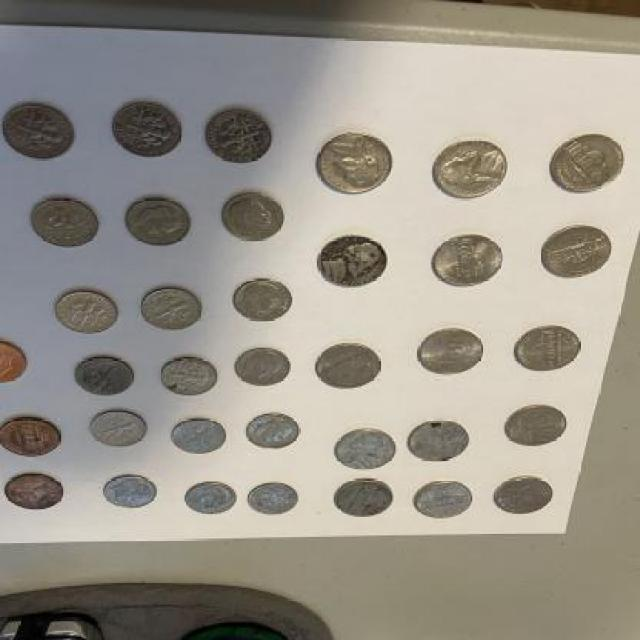Dime: (110, 98, 184, 164), (1, 101, 77, 160), (203, 106, 277, 165), (48, 288, 124, 340), (28, 197, 102, 250), (218, 190, 290, 244), (127, 192, 196, 245), (228, 277, 296, 323), (140, 282, 205, 330), (156, 354, 222, 397), (233, 346, 296, 389), (74, 356, 136, 398), (90, 408, 150, 450), (242, 410, 300, 452), (170, 417, 232, 454), (103, 472, 162, 510), (184, 478, 238, 516), (244, 482, 304, 516)
Nickel: (310, 130, 392, 198), (426, 137, 512, 200), (544, 132, 626, 197), (424, 230, 508, 290), (312, 230, 390, 292), (540, 222, 614, 284), (412, 323, 486, 382), (312, 337, 386, 392), (511, 321, 582, 374), (503, 402, 571, 452), (489, 472, 560, 518), (403, 418, 472, 464), (411, 478, 477, 522), (330, 477, 396, 520), (334, 426, 398, 469)
Penny: (0, 414, 68, 458), (4, 472, 66, 512), (0, 334, 34, 386)
